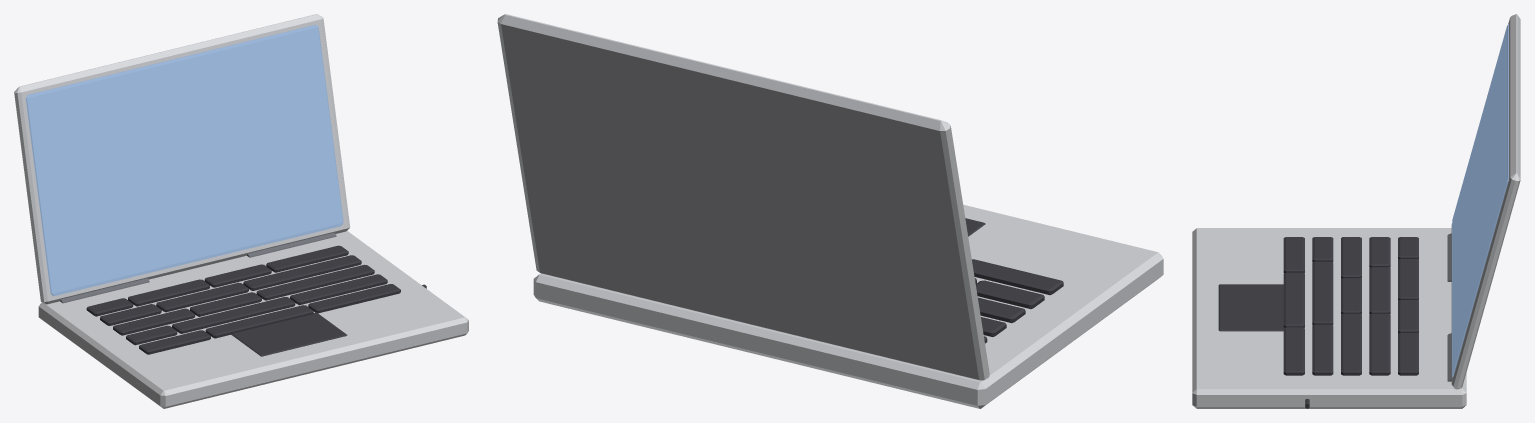
Rendered from laptop.glb.
3 renders of one model, left to right at view 1: azimuth 30°, elevation 25°; view 2: azimuth 150°, elevation 25°; view 3: azimuth 270°, elevation 25°, orthographic. The views are drawn at different scales.
Parts seen in each view (by area): view 1: laptop-open-16; view 2: laptop-open-16; view 3: laptop-open-16.
Boxes of the visible parts, bbox=[...] form: laptop-open-16: bbox=[14, 14, 468, 408]; laptop-open-16: bbox=[497, 14, 1163, 408]; laptop-open-16: bbox=[1192, 14, 1520, 408].
Size of the model in its own units: 0.364 by 0.2391 by 0.2993.
